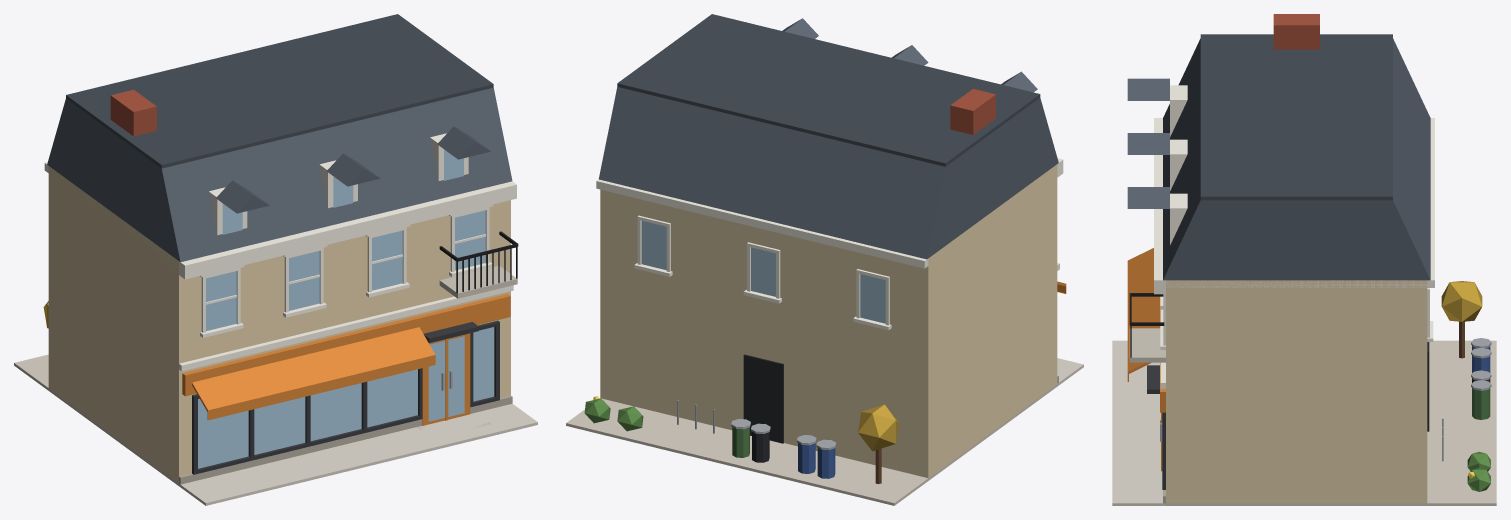
Rendered from Blok_duz_2k_3_Hafif.fbx.
3 renders of one model, left to right at view 1: azimuth 30°, elevation 25°; view 2: azimuth 150°, elevation 25°; view 3: azimuth 270°, elevation 25°, orthographic.
Parts seen in each view (by area): view 1: Blok_duz_2k_3_Hafif; view 2: Blok_duz_2k_3_Hafif; view 3: Blok_duz_2k_3_Hafif.
Part boxes in pixels (left/top/right/bottom): Blok_duz_2k_3_Hafif: left=14, top=14, right=537, bottom=505; Blok_duz_2k_3_Hafif: left=566, top=14, right=1083, bottom=505; Blok_duz_2k_3_Hafif: left=1112, top=14, right=1496, bottom=505.
Bounding box in the file's own units: 10 × 9.62 × 10.
